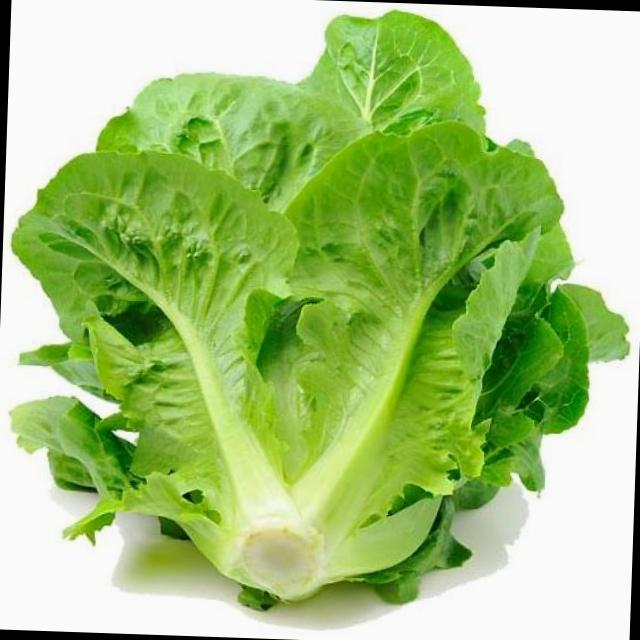Lettuce-Ready-to-Harvest: (12, 12, 628, 608)
